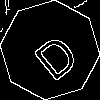D: (25, 25, 82, 83)
